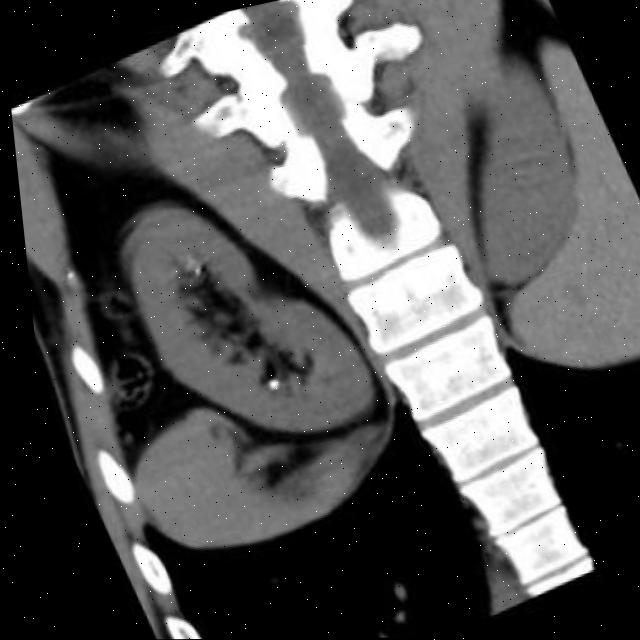Tas_Var: (259, 377, 279, 396), (186, 264, 203, 280)
